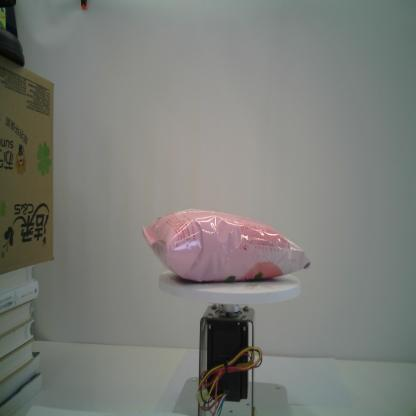Puffed Food: (142, 208, 312, 283)
